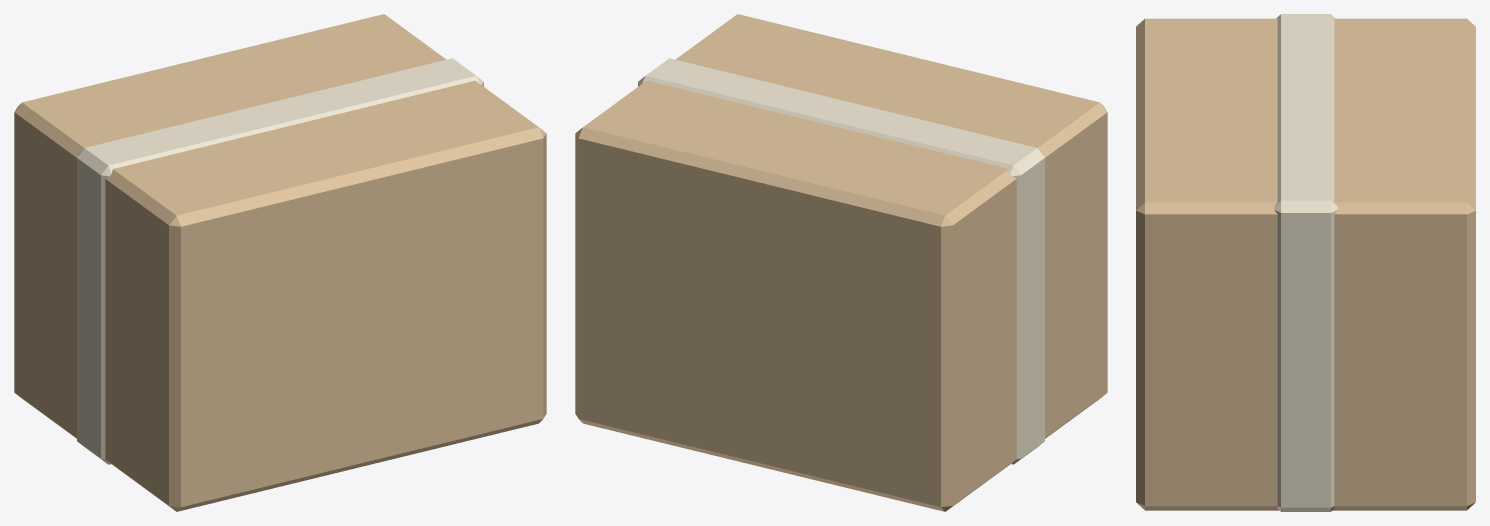
The model's file is caixa_medio.glb.
3 views of the same model, side by side, from view 1: azimuth 30°, elevation 25°; view 2: azimuth 150°, elevation 25°; view 3: azimuth 270°, elevation 25° (orthographic). The views are drawn at different scales.
Parts seen in each view (by area): view 1: corpo; view 2: corpo; view 3: corpo.
Boxes of the visible parts, x1,y1,x2,y2 form: corpo: (14, 14, 546, 511); corpo: (575, 14, 1107, 511); corpo: (1136, 14, 1475, 511).
Size of the model in its own units: 0.406 by 0.303 by 0.3.
